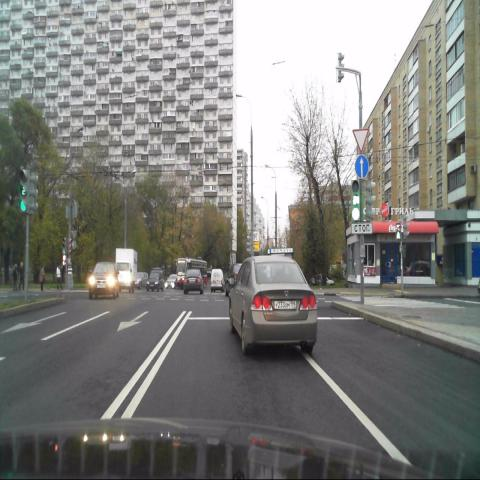6_16: (352, 223, 372, 234)
